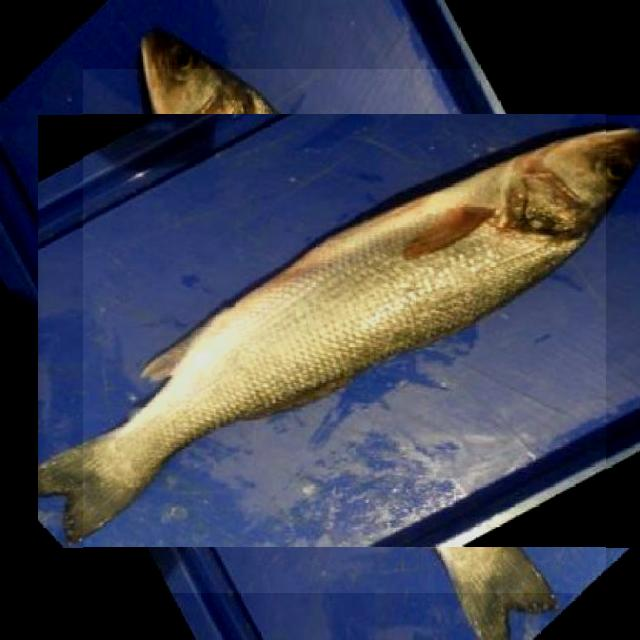Healthy Fish: (83, 70, 606, 594)
